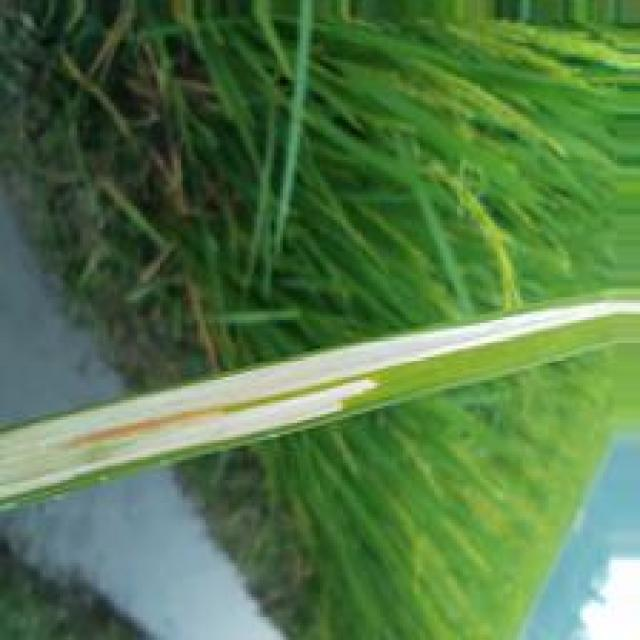Rice_Hispa: (0, 299, 640, 499)
